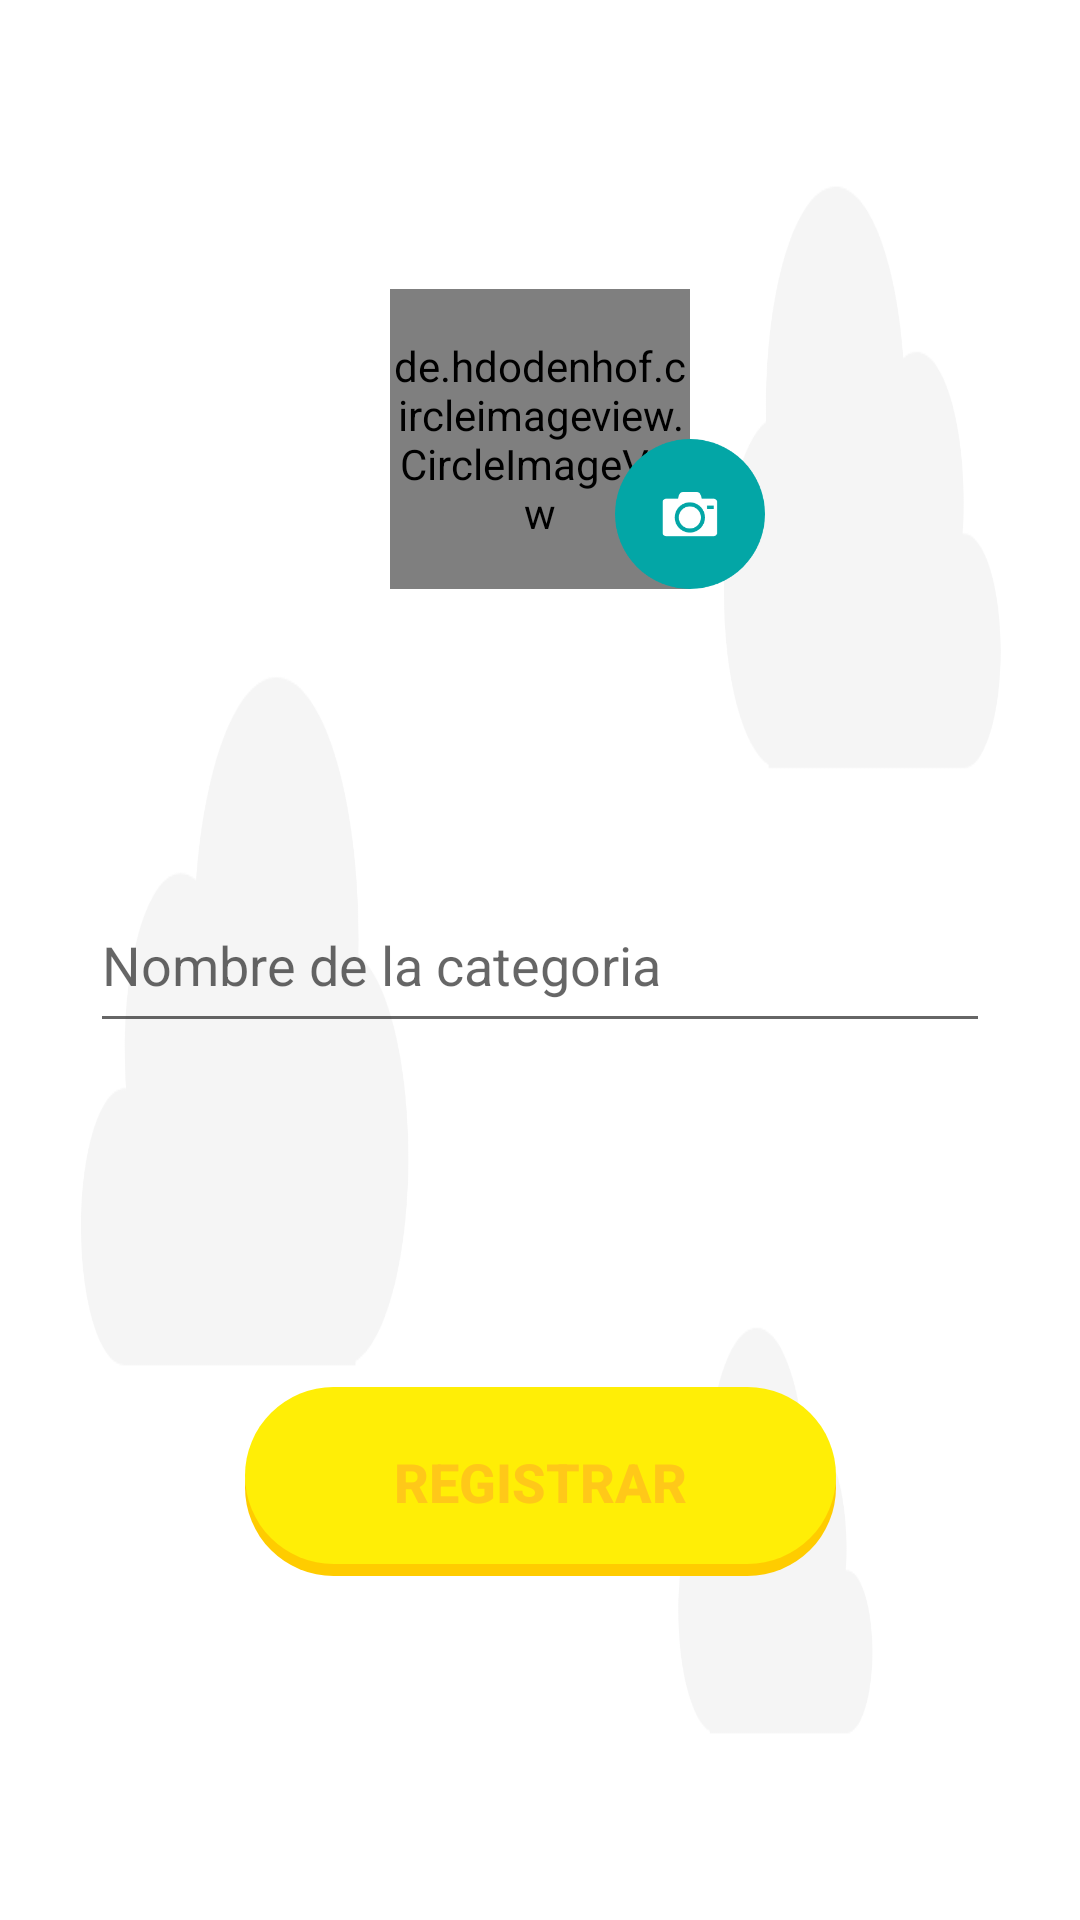

Point at icon controls on the screen. Image size 1080px x 1920px, points as (x=x, y=y).
take: (x=690, y=514)
